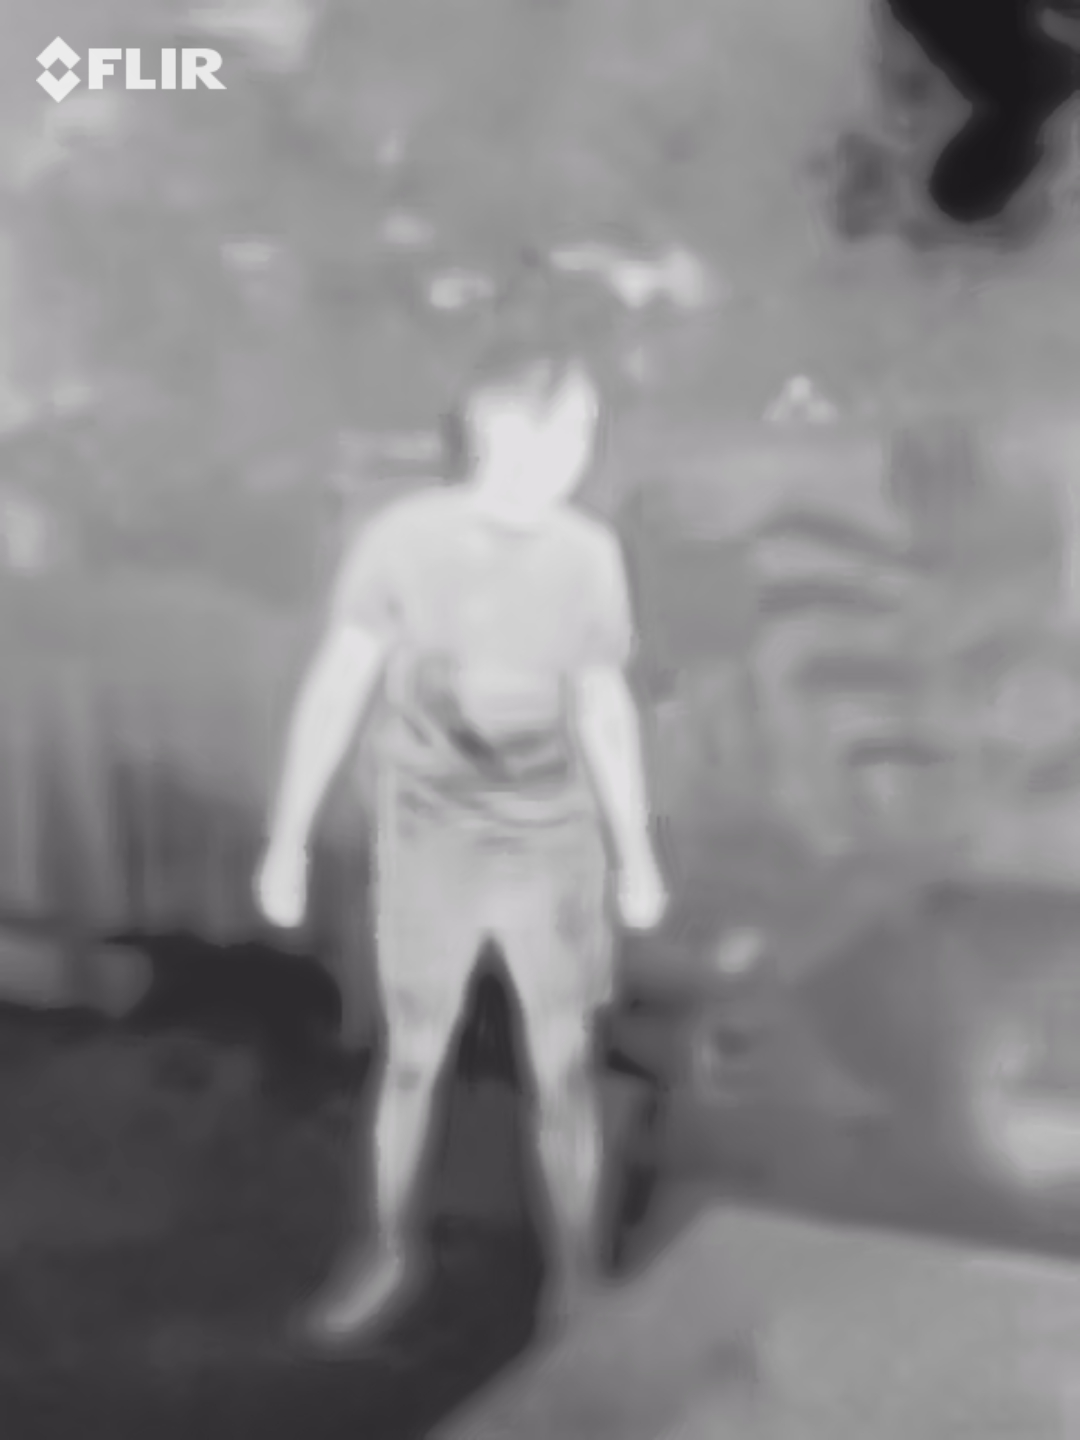head: (456, 341, 609, 513)
